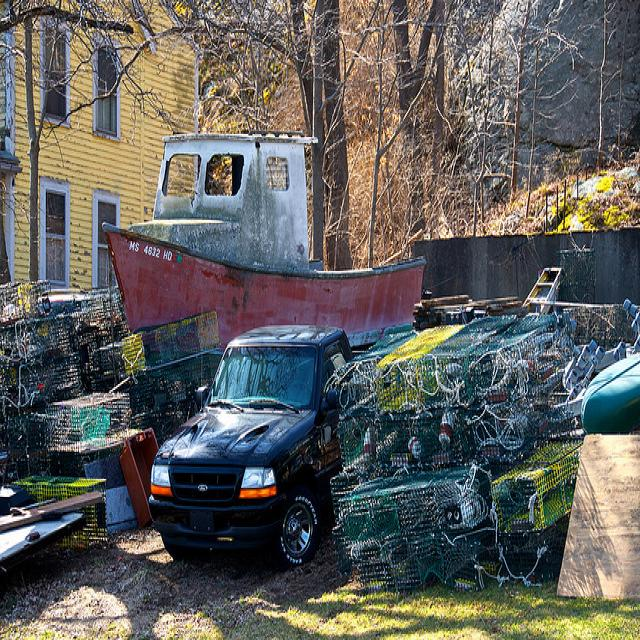Vehicle: (148, 320, 364, 565)
